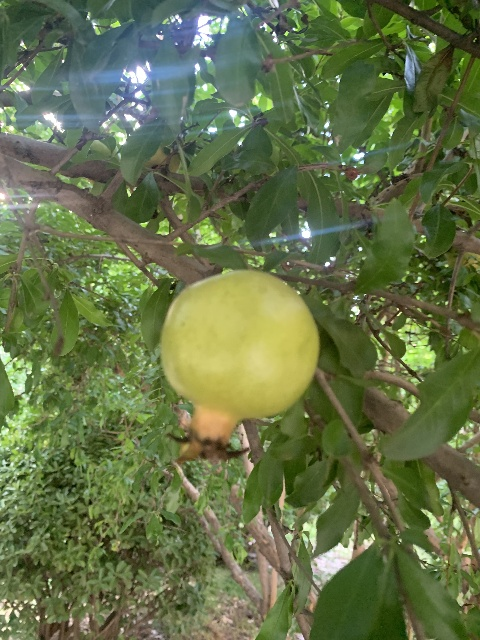mid-growth: (158, 269, 320, 462)
